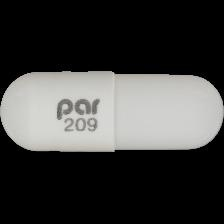42291-545: (0, 0, 224, 224)
